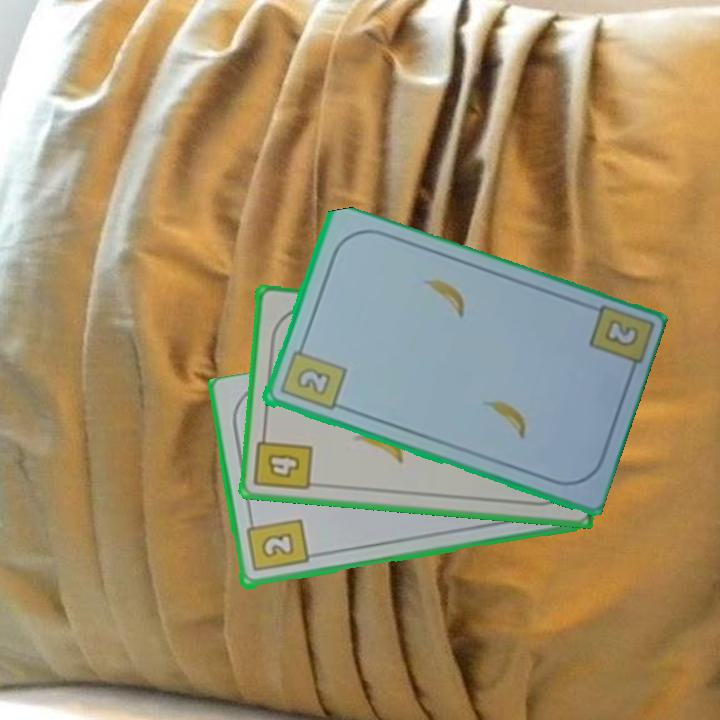2b: (276, 339, 349, 414), (243, 514, 311, 575), (600, 315, 642, 350)
4b: (251, 426, 315, 494)
